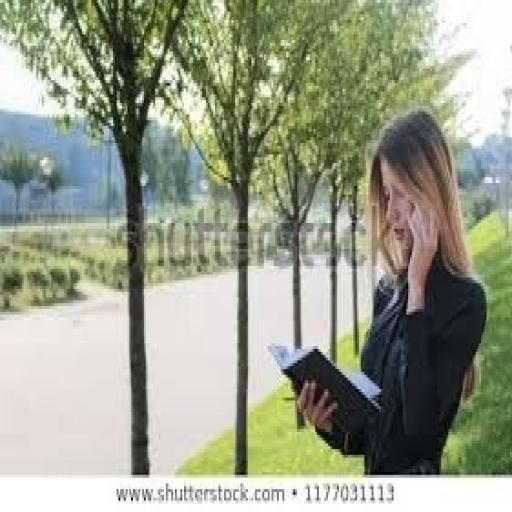calling: (294, 106, 488, 475)
